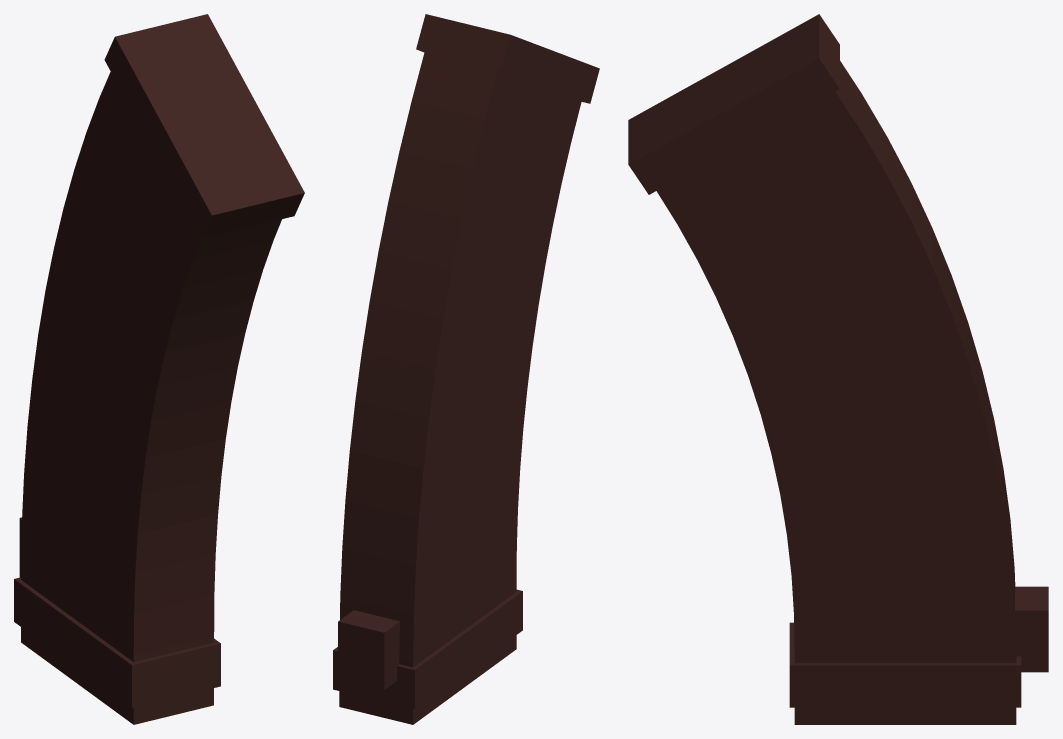
Rendered from ak_mag_762_30.glb.
3 views of the same model, side by side, from view 1: azimuth 30°, elevation 25°; view 2: azimuth 150°, elevation 25°; view 3: azimuth 270°, elevation 25° (orthographic). The views are drawn at different scales.
Visible parts, largest first — view 1: mag_body, mag_floor, mag_collar; view 2: mag_body, mag_floor, mag_collar, mag_catch_lug; view 3: mag_body, mag_floor, mag_collar, mag_catch_lug.
Boxes of the visible parts, bbox=[...] form: mag_body: bbox=[21, 72, 281, 724]; mag_floor: bbox=[104, 14, 304, 238]; mag_collar: bbox=[14, 577, 220, 707]; mag_body: bbox=[339, 52, 581, 724]; mag_floor: bbox=[416, 14, 599, 103]; mag_collar: bbox=[333, 589, 522, 709]; mag_catch_lug: bbox=[338, 610, 399, 690]; mag_body: bbox=[656, 61, 1016, 724]; mag_floor: bbox=[628, 14, 839, 194]; mag_collar: bbox=[789, 622, 1021, 707]; mag_catch_lug: bbox=[1015, 586, 1048, 672].
Bounding box in the file's own units: 0.0295 × 0.2064 × 0.1175.
